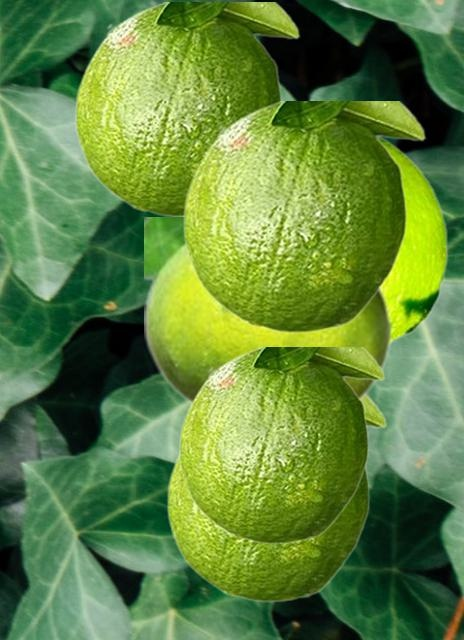dalandan: (182, 101, 425, 332), (74, 2, 299, 216), (144, 217, 392, 405), (166, 394, 386, 601), (178, 347, 384, 543), (380, 139, 447, 345)
